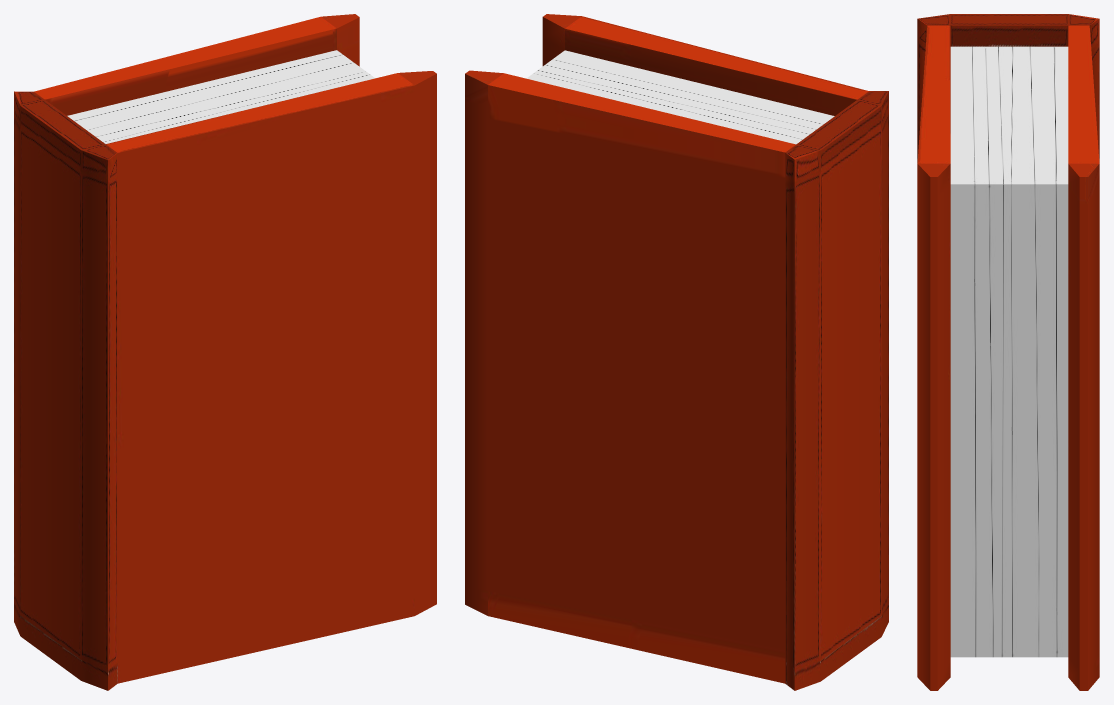
Rendered from Book.fbx.
3 renders of one model, left to right at view 1: azimuth 30°, elevation 25°; view 2: azimuth 150°, elevation 25°; view 3: azimuth 270°, elevation 25°, orthographic. The views are drawn at different scales.
Visible parts, largest first — view 1: Book; view 2: Book; view 3: Book.
Part boxes in pixels (x1,y1,x2,y2): Book: [14, 14, 436, 690]; Book: [465, 14, 888, 690]; Book: [917, 14, 1099, 690].
Bounding box in the file's own units: 45.33 × 66.59 × 21.38.
1 material, 1 textured.
